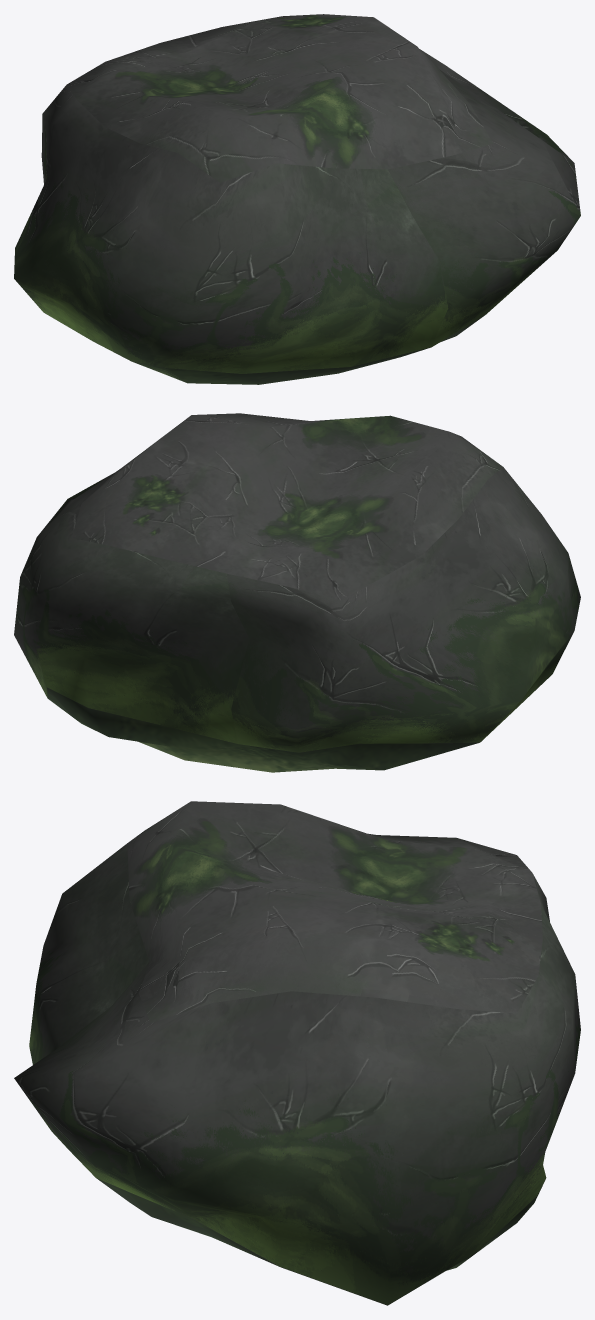
File: forest_rock_2.fbx
The picture shows the model from 3 angles, top to bottom: view 1: azimuth 30°, elevation 25°; view 2: azimuth 150°, elevation 25°; view 3: azimuth 270°, elevation 25°; orthographic projection. The views are drawn at different scales.
Parts seen in each view (by area): view 1: CA_OPE_Props_Floresta; view 2: CA_OPE_Props_Floresta; view 3: CA_OPE_Props_Floresta.
Part boxes in pixels (<box>): CA_OPE_Props_Floresta: <box>14,14,580,384</box>; CA_OPE_Props_Floresta: <box>14,413,580,772</box>; CA_OPE_Props_Floresta: <box>14,801,580,1305</box>.
Bounding box in the file's own units: 17.23 × 9.61 × 14.58.
